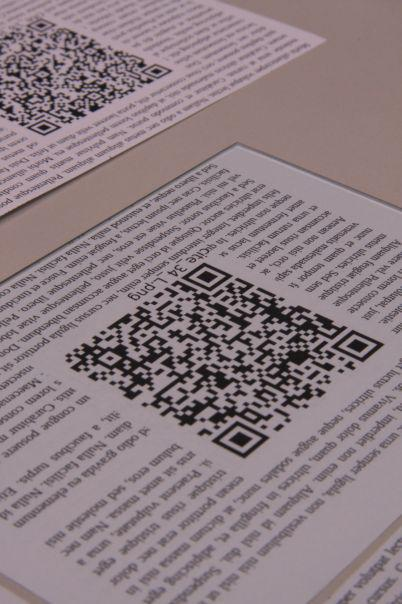Finder pattern: (208, 421, 270, 459), (329, 325, 387, 363), (183, 261, 232, 294), (24, 115, 62, 137), (27, 15, 58, 35), (140, 64, 173, 81)
